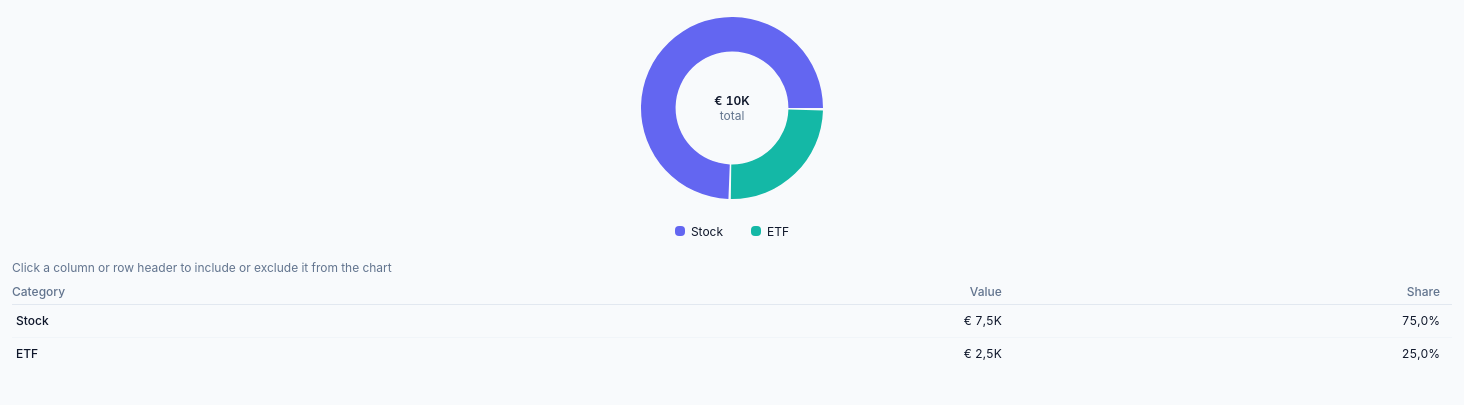
it: AllocationDonut › shows the empty state when every slice is excluded, keeping legend and table to undo it
The width and height of the screenshot is (1464, 405).
What coordinates should you click on to do the following:
click the 1st button "Stock"
I would click on:
 (699, 232)
Its box is [669,220,729,244].
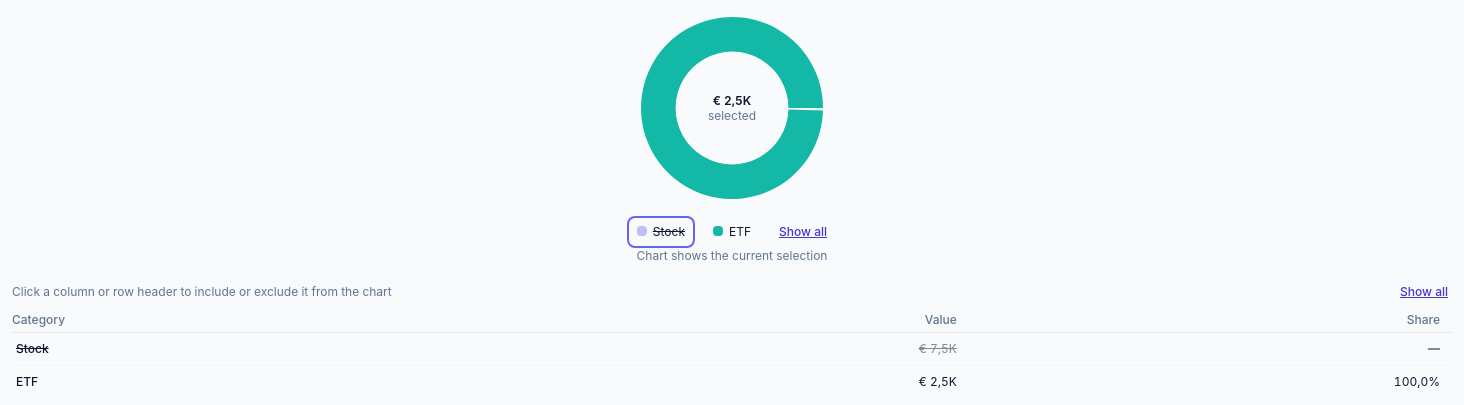
What coordinates should you click on to do the following:
click the 1st button "ETF"
I would click on:
 (732, 232)
Its box is [707,220,757,244].
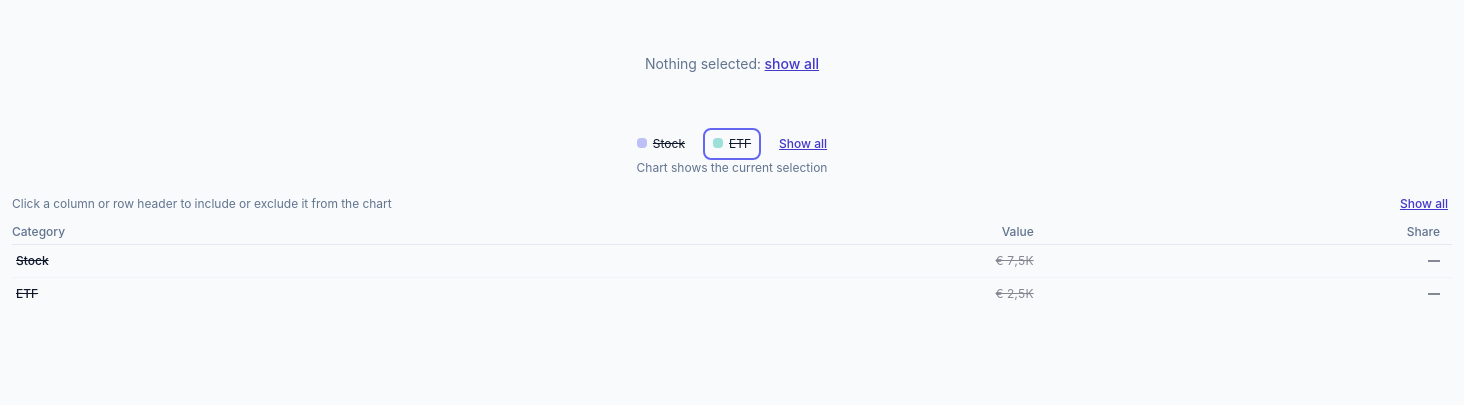
Expected: the element with test id "nothing-selected" reads "Nothing selected: show all", [645,52,819,76]
What coordinates should you click on to do the following:
click the button "show all"
I would click on:
 (792, 64)
Its box is [764,52,819,76].
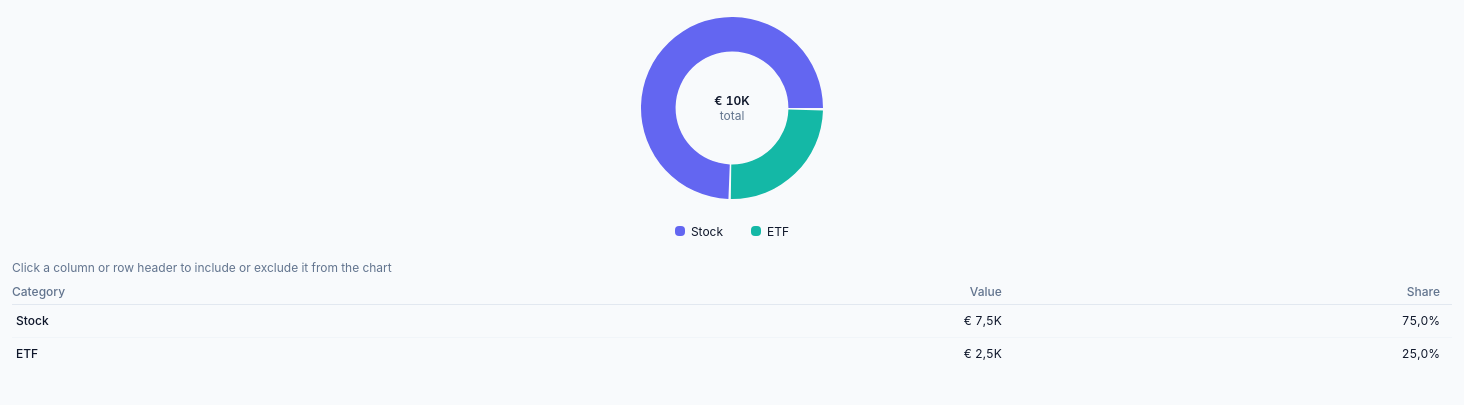
Expected: the picture with test id "allocation-donut" is shown, [636,12,828,204]
